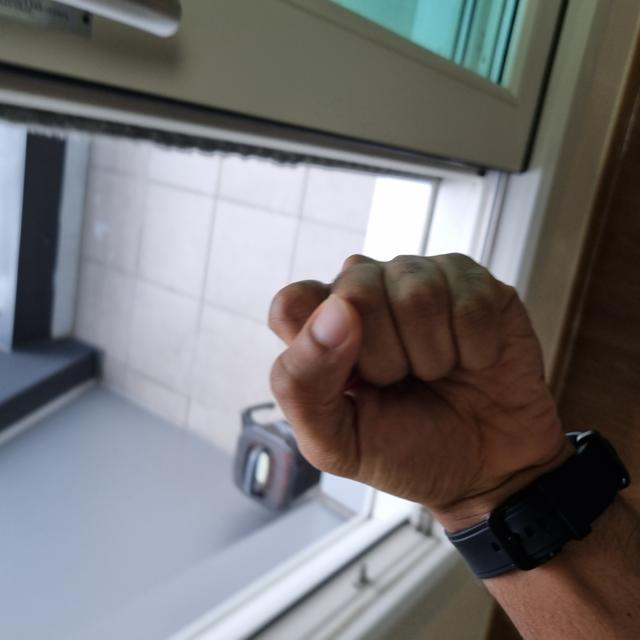Rock: (121, 267, 384, 555)
